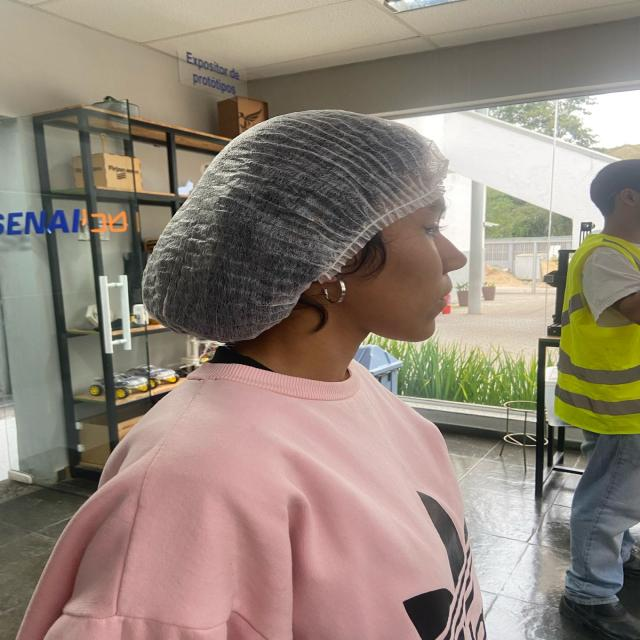BOTA: (558, 589, 639, 637), (605, 551, 638, 578)
COLETE: (548, 226, 639, 437)
TOUCA: (132, 110, 452, 341)
